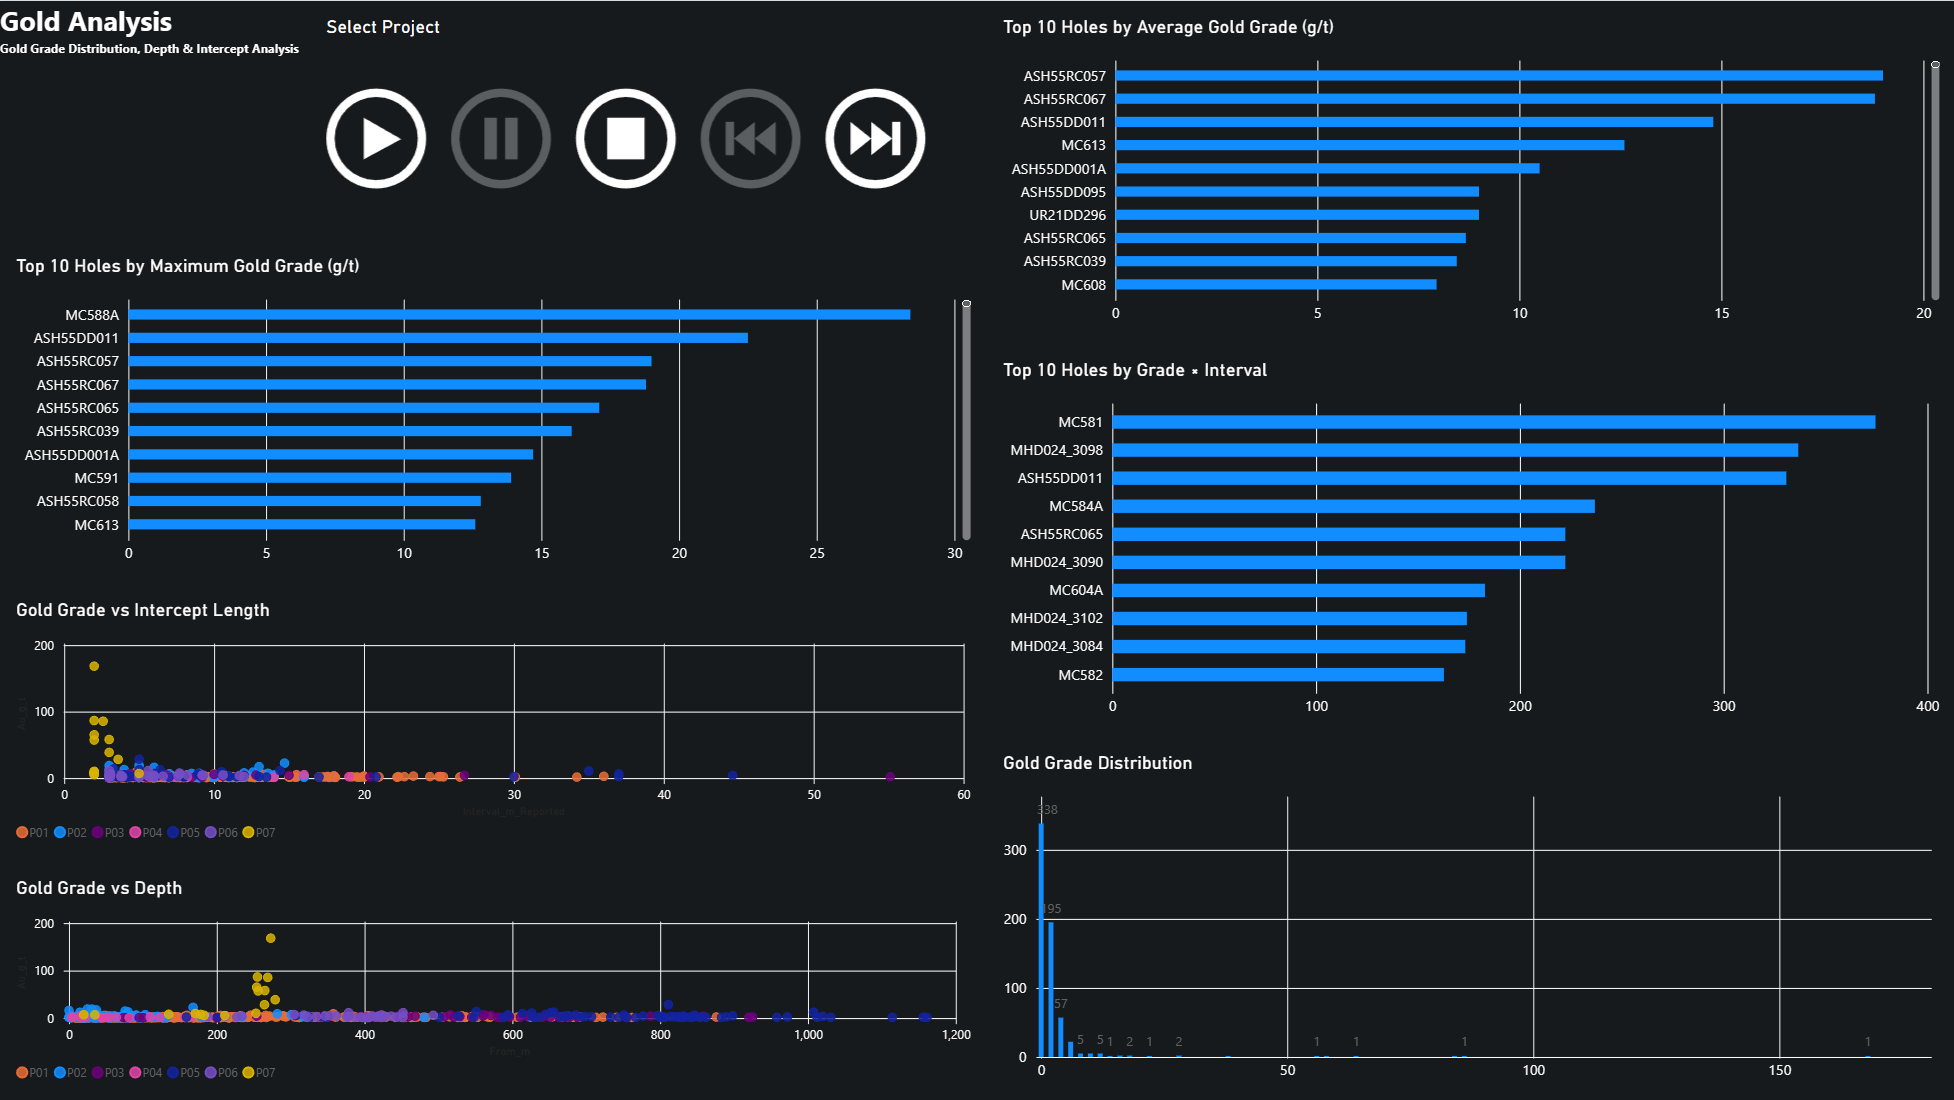

What the dashboard file says about the page in this screenshot:
{"tool":"powerbi","page":{"name":"Gold Analysis","canvas":[1920,1080],"ordinal":1},"visuals":[{"type":"clusteredColumnChart","title":"Gold Grade Distribution","fields":{"Category":["mining_geology_project intercepts.Au_g_t (bins)"],"Y":["Count(mining_geology_project intercepts.Intercept_ID)"]},"box":[969.2,722.3,950.8,358.1],"z":0},{"type":"clusteredBarChart","title":"Top 10 Holes by Grade × Interval","fields":{"Category":["mining_geology_project intercepts.Hole_ID"],"Y":["Max(mining_geology_project intercepts.Grade_Interval)"]},"box":[968.8,336.7,951.2,385.8],"z":1000},{"type":"clusteredBarChart","title":"Top 10 Holes by Maximum Gold Grade (g/t)","fields":{"Category":["mining_geology_project drillholes.Hole_ID"],"Y":["Max(mining_geology_project intercepts.Au_g_t)"]},"box":[0,234.6,968.8,337.7],"z":2000},{"type":"clusteredBarChart","title":"Top 10 Holes by Average Gold Grade (g/t)","fields":{"Category":["mining_geology_project drillholes.Hole_ID"],"Y":["Avg(mining_geology_project intercepts.Au_g_t)"]},"box":[968.8,0,951.2,336.7],"z":3000},{"type":"scatterChart","title":"Gold Grade vs Depth","fields":{"Series":["mining_geology_project intercepts.Project_ID"],"X":["mining_geology_project intercepts.From_m"],"Y":["mining_geology_project intercepts.Au_g_t"]},"box":[0,844.7,969.2,235.7],"z":4000},{"type":"scatterChart","title":"Gold Grade vs Intercept Length","fields":{"Series":["mining_geology_project intercepts.Project_ID"],"X":["mining_geology_project intercepts.Interval_m_Reported"],"Y":["mining_geology_project intercepts.Au_g_t"]},"box":[0,572.3,968.8,272.9],"z":5000},{"type":"PBI_CV_16948668_E17D_454B_8664_2F2C470EA8C1","fields":{"category":["mining_geology_project drillholes.Project_ID"]},"box":[304.6,0,664.7,234.6],"z":6000},{"type":"textbox","box":[0,0,305,234.6],"z":7000}]}

Visuals, with their boxes in screenshot pixels (x1, y1, x2, y2), scaled from the page's 1920x1080 canvas onto the 1954x1100 screenshot:
"Gold Grade Distribution" clusteredColumnChart: {"x1": 986, "y1": 736, "x2": 1953, "y2": 1099}
"Top 10 Holes by Grade × Interval" clusteredBarChart: {"x1": 986, "y1": 343, "x2": 1953, "y2": 736}
"Top 10 Holes by Maximum Gold Grade (g/t)" clusteredBarChart: {"x1": 0, "y1": 239, "x2": 986, "y2": 583}
"Top 10 Holes by Average Gold Grade (g/t)" clusteredBarChart: {"x1": 986, "y1": 0, "x2": 1953, "y2": 343}
"Gold Grade vs Depth" scatterChart: {"x1": 0, "y1": 860, "x2": 986, "y2": 1099}
"Gold Grade vs Intercept Length" scatterChart: {"x1": 0, "y1": 583, "x2": 986, "y2": 861}
PBI_CV_16948668_E17D_454B_8664_2F2C470EA8C1 - mining_geology_project drillholes.Project_ID: {"x1": 310, "y1": 0, "x2": 986, "y2": 239}
textbox: {"x1": 0, "y1": 0, "x2": 310, "y2": 239}
